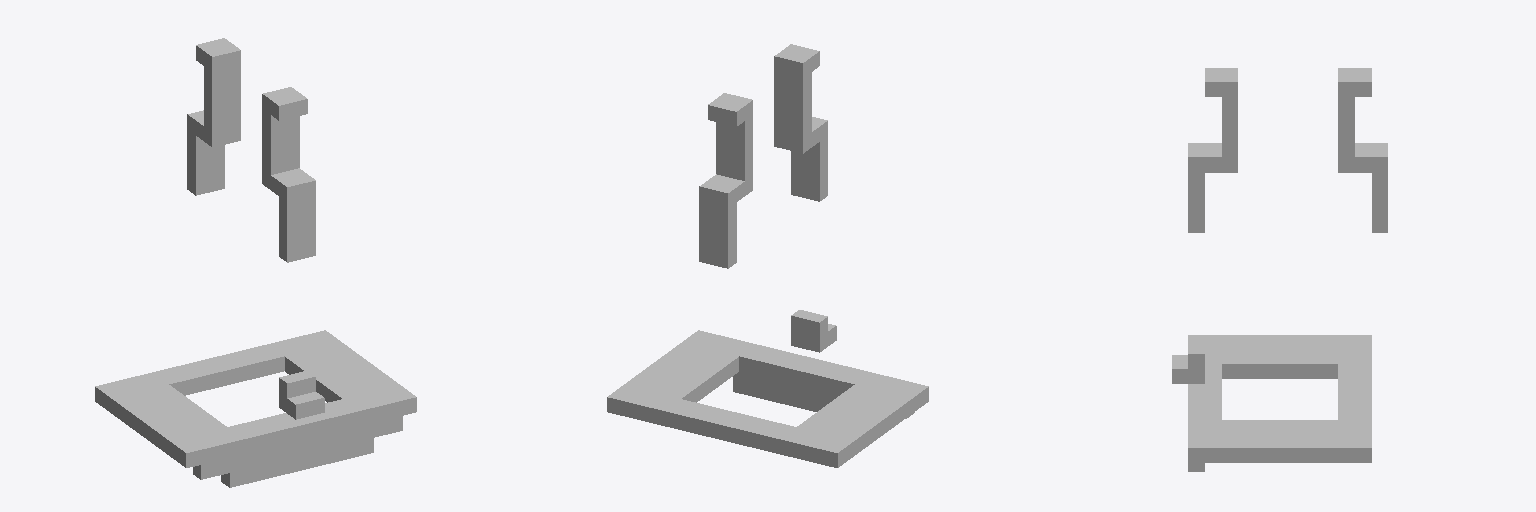
Rendered from Osiris_gold2.obj.
The picture shows the model from 3 angles: view 1: azimuth 30°, elevation 25°; view 2: azimuth 150°, elevation 25°; view 3: azimuth 270°, elevation 25°; orthographic projection.
Visible parts, largest first — view 1: object 1; view 2: object 1; view 3: object 1.
Boxes of the visible parts, <box> form: object 1: <box>95,38,416,487</box>; object 1: <box>607,44,928,467</box>; object 1: <box>1172,68,1387,471</box>.
Size of the model in its own units: 1.6 by 2.4 by 1.3.